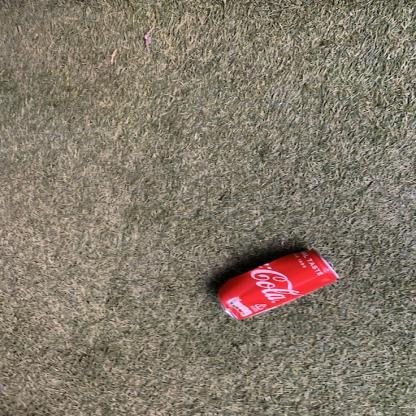trash: (218, 252, 344, 324)
